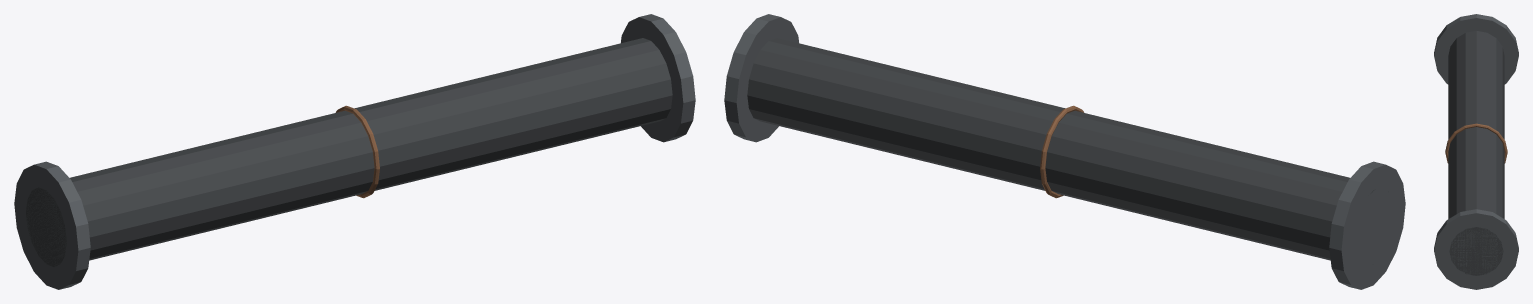
The model's file is arch_industrial_pipe.glb.
3 views of the same model, side by side, from view 1: azimuth 30°, elevation 25°; view 2: azimuth 150°, elevation 25°; view 3: azimuth 270°, elevation 25° (orthographic). The views are drawn at different scales.
Visible parts, largest first — view 1: arch_industrial_pipe; view 2: arch_industrial_pipe; view 3: arch_industrial_pipe.
Boxes of the visible parts, left/top/right/bottom form: arch_industrial_pipe: left=14, top=14, right=695, bottom=289; arch_industrial_pipe: left=724, top=14, right=1405, bottom=289; arch_industrial_pipe: left=1434, top=14, right=1518, bottom=289.
Bounding box in the file's own units: 2 × 0.36 × 0.36.
